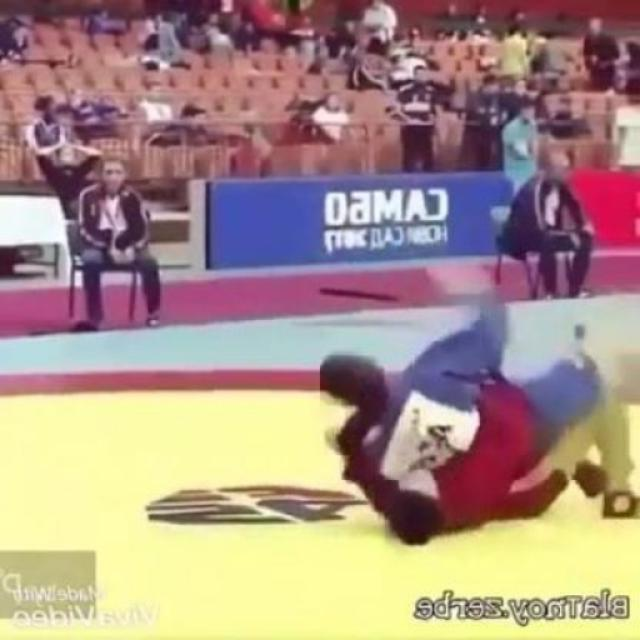non-violence: (7, 0, 640, 177), (78, 162, 160, 324), (504, 149, 595, 291)
violence: (320, 282, 640, 536)
